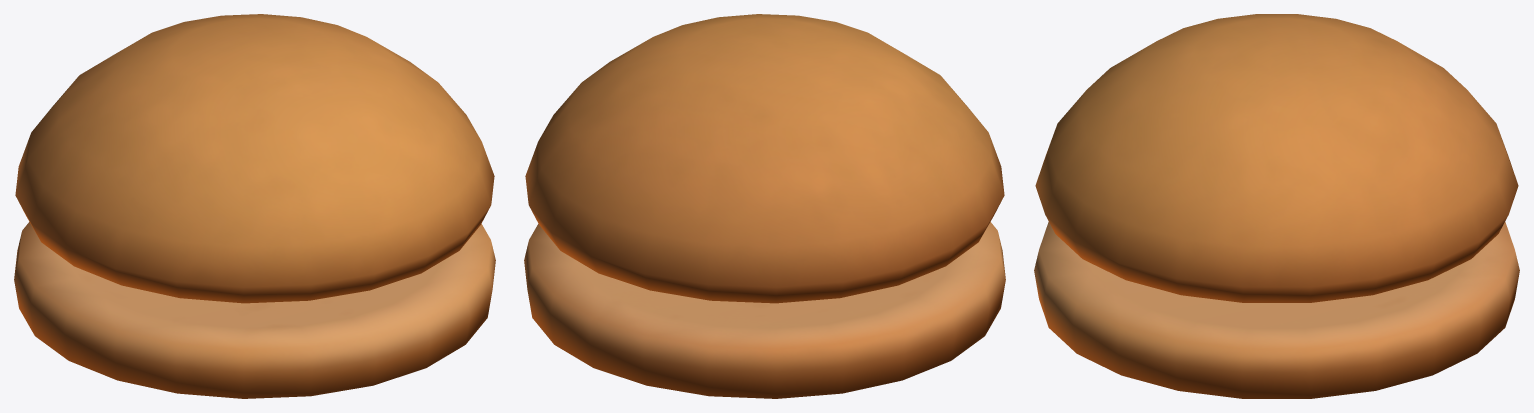
The model's file is Bread.fbx.
The picture shows the model from 3 angles, left to right: view 1: azimuth 30°, elevation 25°; view 2: azimuth 150°, elevation 25°; view 3: azimuth 270°, elevation 25°; orthographic projection.
Parts seen in each view (by area): view 1: Bread.Top, Bread.Bottom; view 2: Bread.Top, Bread.Bottom; view 3: Bread.Top, Bread.Bottom.
Part boxes in pixels (x1,y1,x2,y2): Bread.Top: [15, 14, 494, 303]; Bread.Bottom: [14, 222, 495, 398]; Bread.Top: [525, 14, 1004, 303]; Bread.Bottom: [524, 222, 1005, 398]; Bread.Top: [1035, 14, 1518, 302]; Bread.Bottom: [1034, 222, 1519, 398].
Size of the model in its own units: 49.99 by 31.04 by 50.51.
